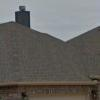Chimney: (9, 2, 38, 27)
